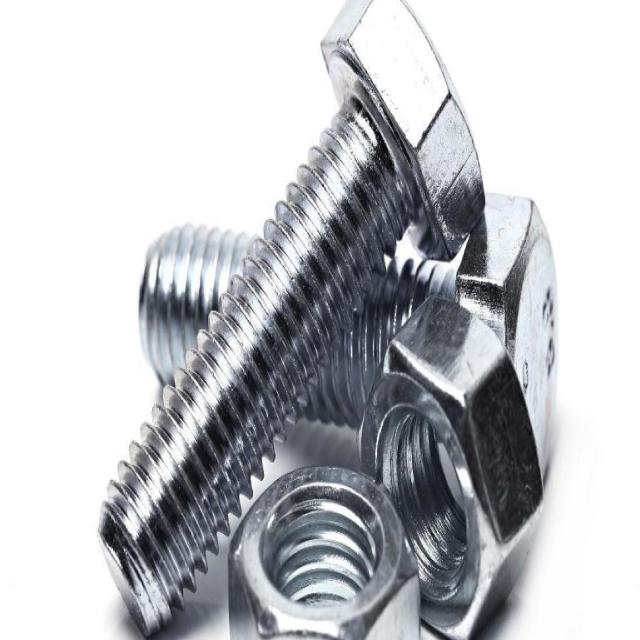Logam: (67, 8, 565, 636)
